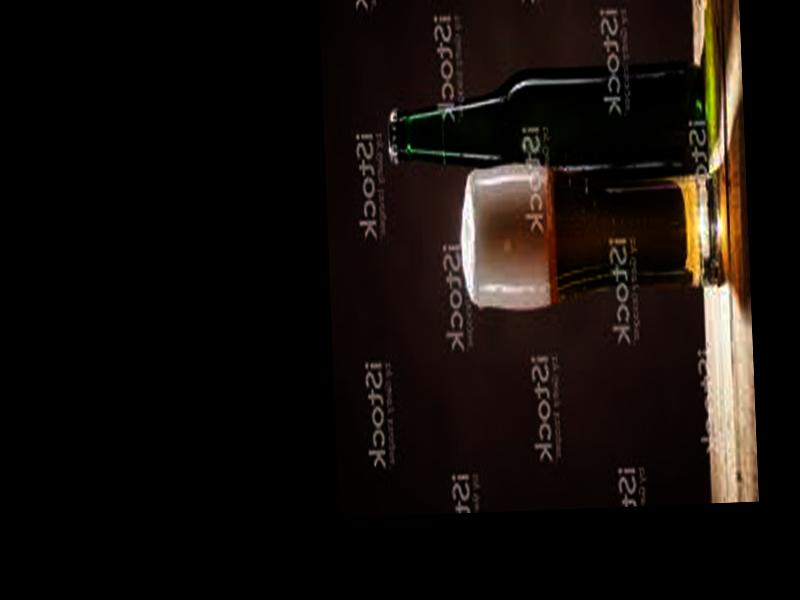Beer: (386, 60, 709, 189)
